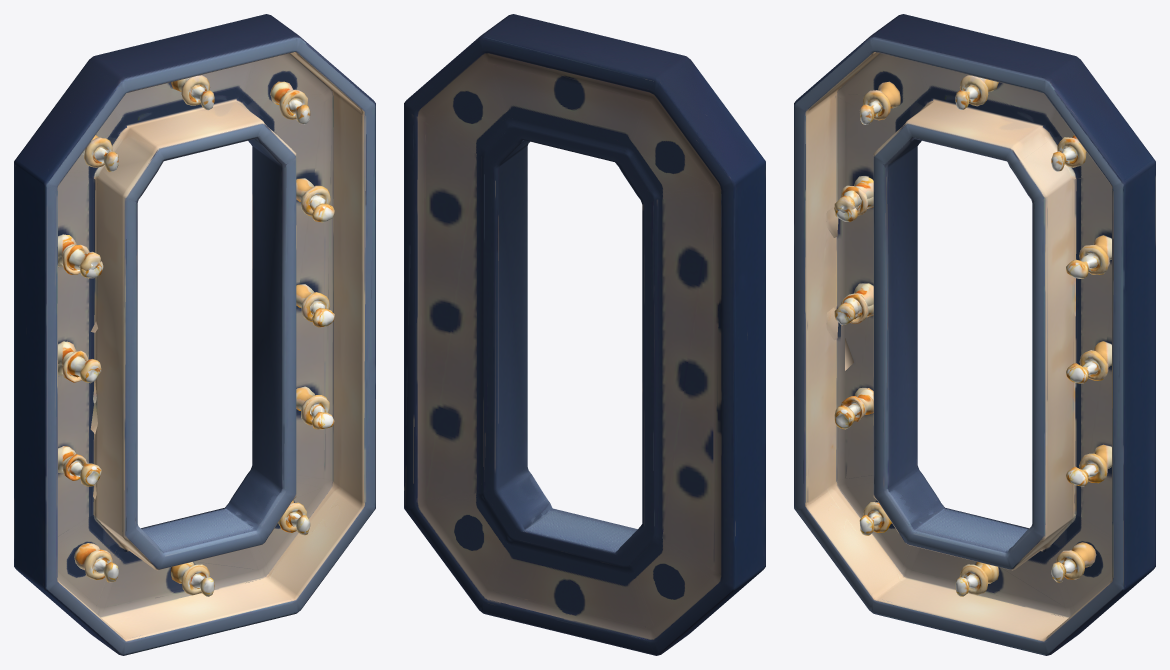
File: Letter_o.glb
3 renders of one model, left to right at view 1: azimuth 30°, elevation 25°; view 2: azimuth 150°, elevation 25°; view 3: azimuth 330°, elevation 25°, orthographic.
Visible parts, largest first — view 1: Mesh_0.001; view 2: Mesh_0.001; view 3: Mesh_0.001.
Part boxes in pixels (left/top/right/bottom): Mesh_0.001: left=14, top=14, right=375, bottom=655; Mesh_0.001: left=404, top=14, right=765, bottom=655; Mesh_0.001: left=794, top=14, right=1155, bottom=655.
Size of the model in its own units: 0.5464 by 0.9144 by 0.092.
1 material, 1 textured.
